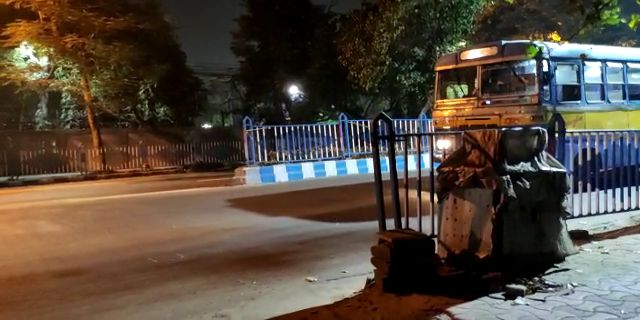Bus: (424, 37, 640, 187)
